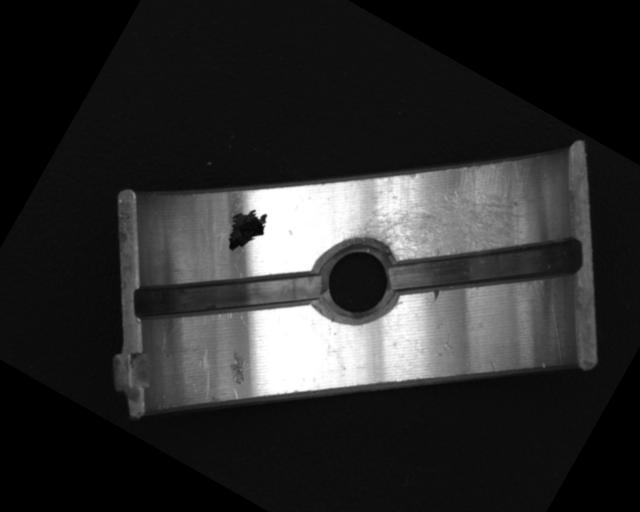blot: (215, 199, 273, 262)
bruise: (217, 345, 257, 387), (427, 287, 442, 303)
gap: (381, 168, 589, 363), (126, 203, 322, 385)
hole: (301, 226, 411, 335)
scratch: (348, 121, 545, 314)
